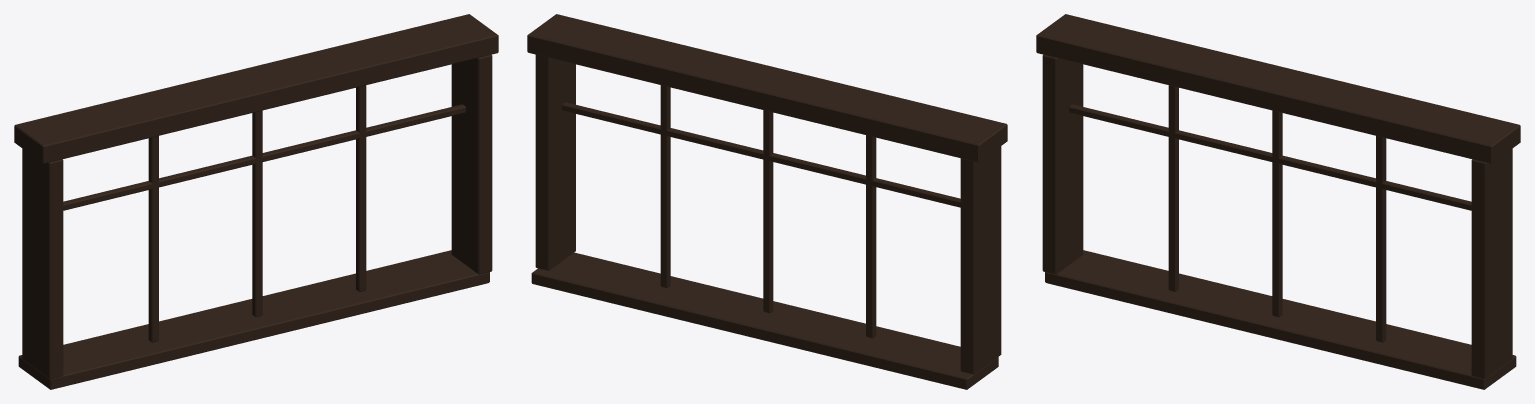
The model's file is frame_shop_w16.fbx.
3 renders of one model, left to right at view 1: azimuth 30°, elevation 25°; view 2: azimuth 150°, elevation 25°; view 3: azimuth 330°, elevation 25°, orthographic.
Parts seen in each view (by area): view 1: frame_shop_w16; view 2: frame_shop_w16; view 3: frame_shop_w16.
Part boxes in pixels (x1,y1,x2,y2): frame_shop_w16: (14, 14, 498, 389); frame_shop_w16: (527, 14, 1007, 389); frame_shop_w16: (1036, 14, 1520, 389).
Size of the model in its own units: 1430 by 740 by 180.
